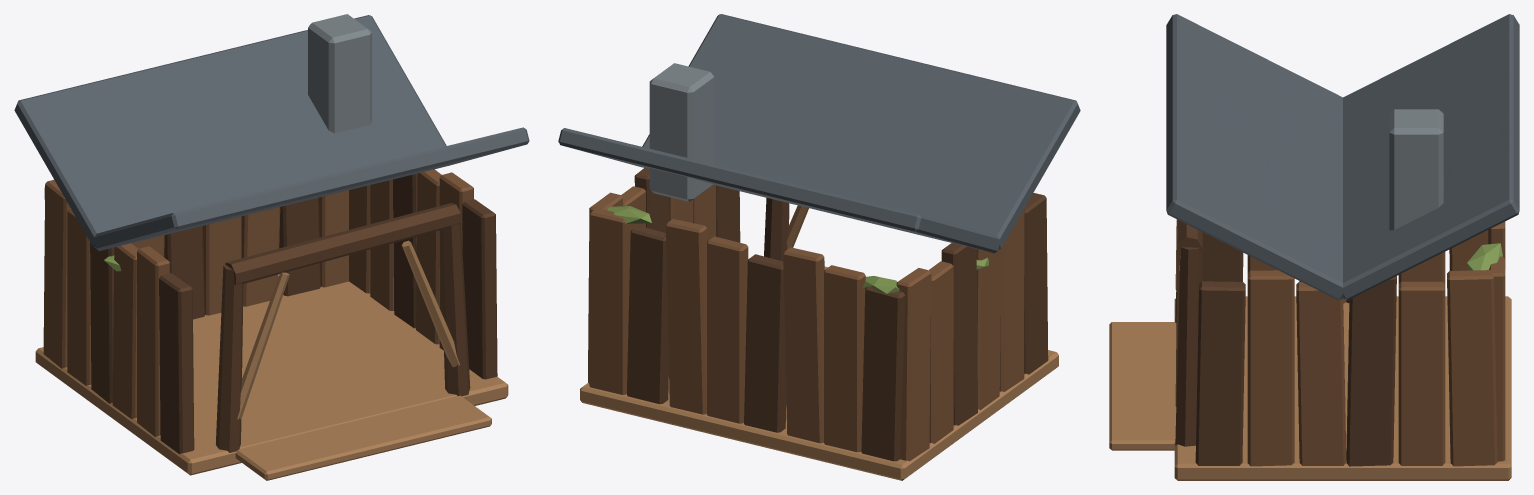
Rendered from mesh_wayfarer_cabin_a.glb.
The picture shows the model from 3 angles, left to right: view 1: azimuth 30°, elevation 25°; view 2: azimuth 150°, elevation 25°; view 3: azimuth 270°, elevation 25°; orthographic projection. The views are drawn at different scales.
Visible parts, largest first — view 1: mesh_wayfarer_cabin_a__stone_dark, mesh_wayfarer_cabin_a__bark_cut, mesh_wayfarer_cabin_a__bark_dark, mesh_wayfarer_cabin_a__bark_mid, mesh_wayfarer_cabin_a__stone; view 2: mesh_wayfarer_cabin_a__stone_dark, mesh_wayfarer_cabin_a__bark_mid, mesh_wayfarer_cabin_a__bark_dark, mesh_wayfarer_cabin_a__bark_cut, mesh_wayfarer_cabin_a__stone, mesh_wayfarer_cabin_a__moss; view 3: mesh_wayfarer_cabin_a__stone_dark, mesh_wayfarer_cabin_a__bark_mid, mesh_wayfarer_cabin_a__bark_dark, mesh_wayfarer_cabin_a__bark_cut, mesh_wayfarer_cabin_a__stone, mesh_wayfarer_cabin_a__moss.
Part boxes in pixels (x1,y1,x2,y2): mesh_wayfarer_cabin_a__stone_dark: (14, 15, 529, 250); mesh_wayfarer_cabin_a__bark_cut: (35, 240, 508, 480); mesh_wayfarer_cabin_a__bark_dark: (44, 173, 497, 454); mesh_wayfarer_cabin_a__bark_mid: (43, 169, 473, 436); mesh_wayfarer_cabin_a__stone: (308, 14, 371, 133); mesh_wayfarer_cabin_a__stone_dark: (558, 14, 1080, 253); mesh_wayfarer_cabin_a__bark_mid: (588, 184, 1024, 461); mesh_wayfarer_cabin_a__bark_dark: (627, 167, 1048, 461); mesh_wayfarer_cabin_a__bark_cut: (580, 205, 1058, 480); mesh_wayfarer_cabin_a__stone: (649, 63, 714, 201); mesh_wayfarer_cabin_a__moss: (607, 206, 988, 293); mesh_wayfarer_cabin_a__stone_dark: (1166, 14, 1519, 299); mesh_wayfarer_cabin_a__bark_mid: (1247, 221, 1505, 466); mesh_wayfarer_cabin_a__bark_dark: (1175, 219, 1505, 466); mesh_wayfarer_cabin_a__bark_cut: (1109, 219, 1511, 480); mesh_wayfarer_cabin_a__stone: (1389, 109, 1443, 230); mesh_wayfarer_cabin_a__moss: (1467, 243, 1502, 270).
Bounding box in the file's own units: 16.99 × 13.98 × 15.64.
